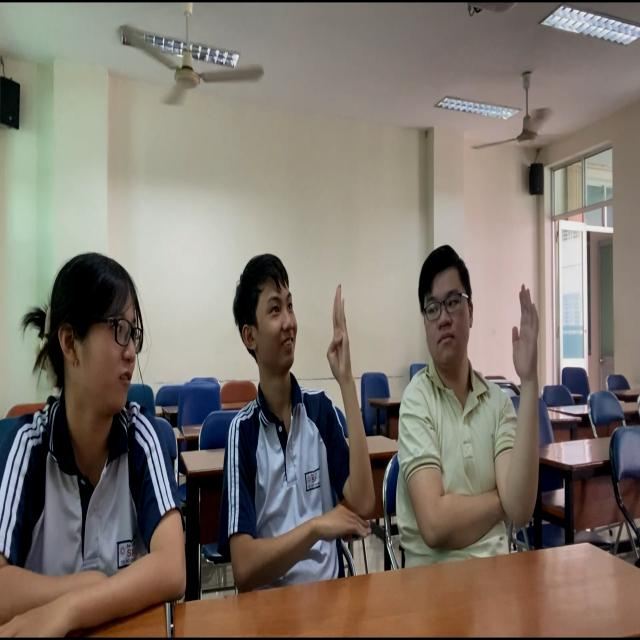raise_hand: (222, 219, 381, 594), (391, 235, 547, 563)
